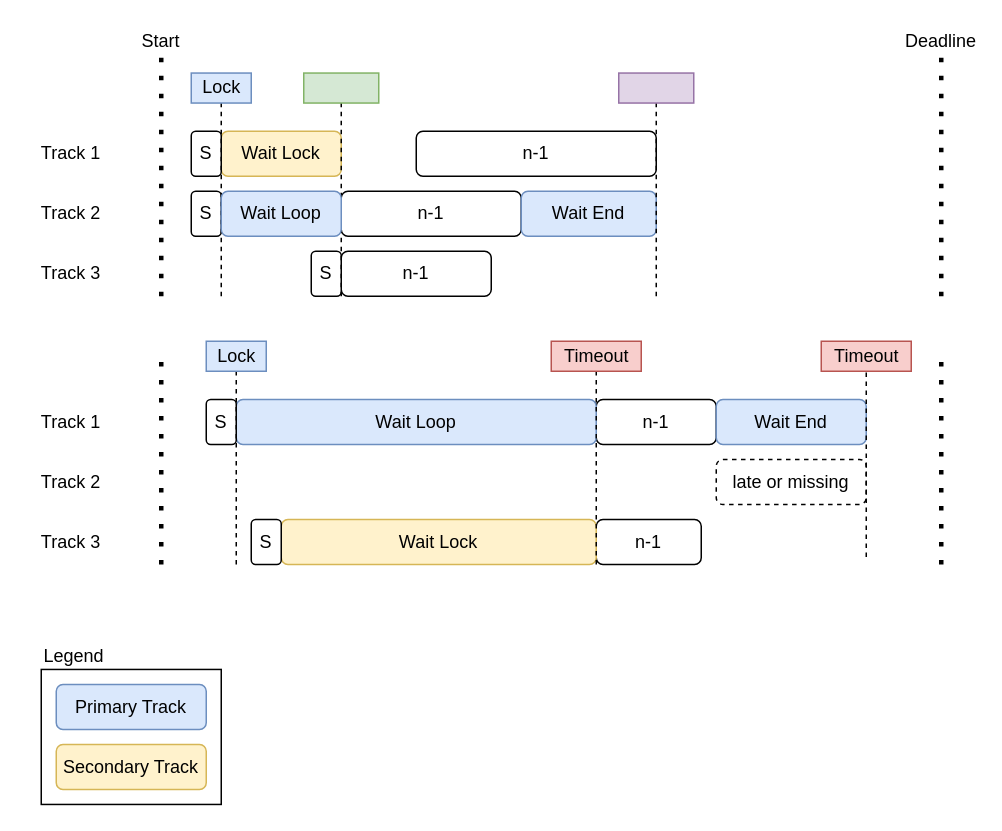
This 1002x831 diagram has some shape labels left out. Here are the shapes that lost their labels. From the top down, the centre of each, then its label:
At point (340, 87): "Ready".
At point (655, 87): "Finish".
